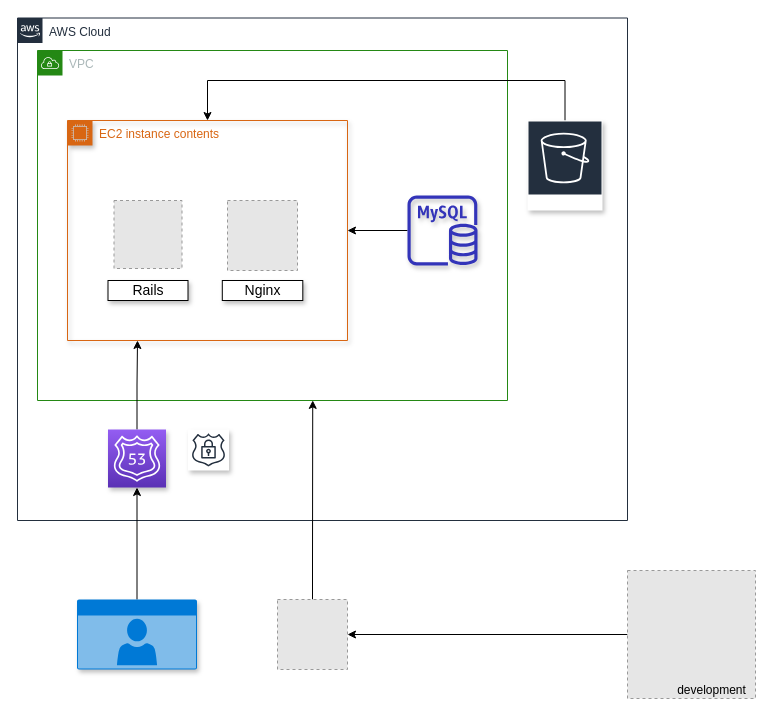
Image size: 773x717. Some labels were removed from this diagram. Grey dashed boxes stand in for pictures. The centre of each missing label's shape, as x and y in pixels:
"Amazon S3" goes at point 565,167.
"SSL padlock" goes at point 209,451.
"User" goes at point 137,635.
